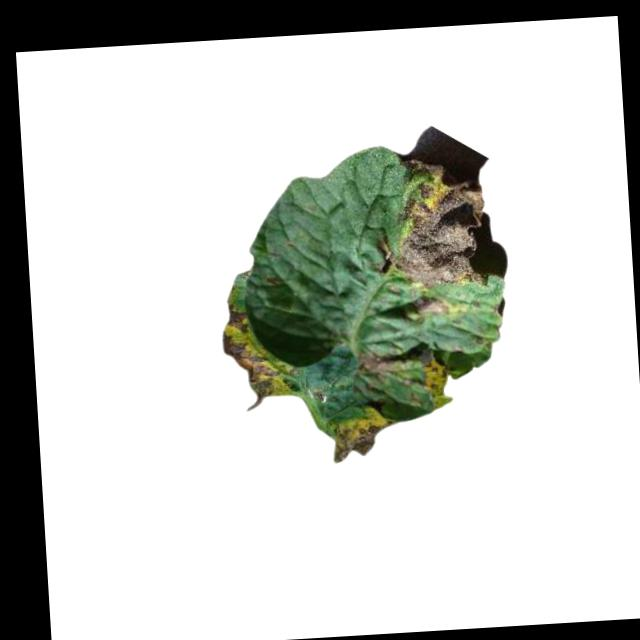Early_blight: (383, 152, 489, 290), (220, 305, 301, 400), (328, 411, 387, 465), (360, 346, 395, 381), (423, 358, 451, 399), (410, 294, 451, 317)
